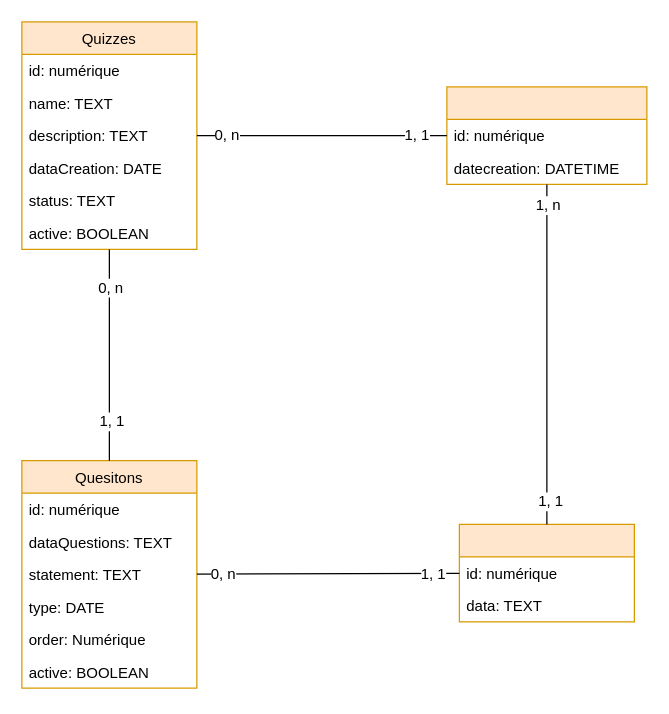
The diagram is 669 pixels wide and 714 high, and some of its shapes have lost their labels. The shapes that lost their labels are listed below. From the top down, each one's box as (x1, y1, x2, y2) in pixels, then its label:
(446, 86, 647, 184): Submissions
(458, 523, 634, 622): Answers
